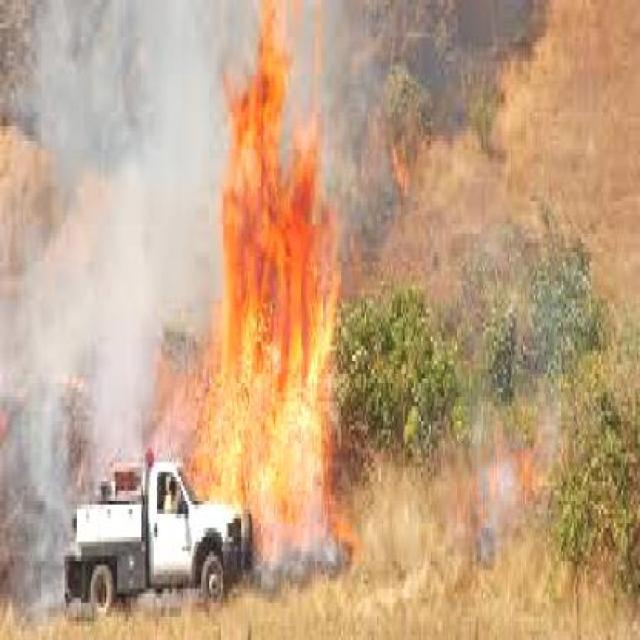Fire: (181, 13, 357, 584), (446, 416, 559, 562), (376, 122, 438, 225)
Smoke: (0, 0, 214, 323)
